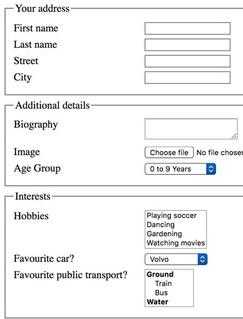button: (143, 146, 195, 159)
field: (142, 117, 239, 140), (143, 71, 232, 85), (143, 38, 231, 52), (143, 54, 231, 68), (142, 22, 231, 35), (144, 163, 217, 176), (143, 252, 209, 266)
field_with_label: (14, 115, 241, 142), (14, 69, 233, 86), (14, 36, 232, 53), (15, 250, 211, 268), (13, 20, 232, 36), (12, 161, 219, 177), (13, 54, 233, 69), (14, 145, 198, 160)
